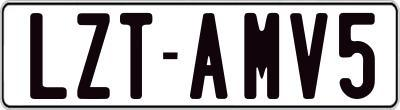5: (339, 11, 378, 100)
A: (189, 10, 226, 101)
L: (29, 12, 70, 100)
M: (242, 12, 278, 103)
T: (120, 13, 153, 104)
V: (289, 12, 330, 104)
Z: (76, 13, 109, 104)
